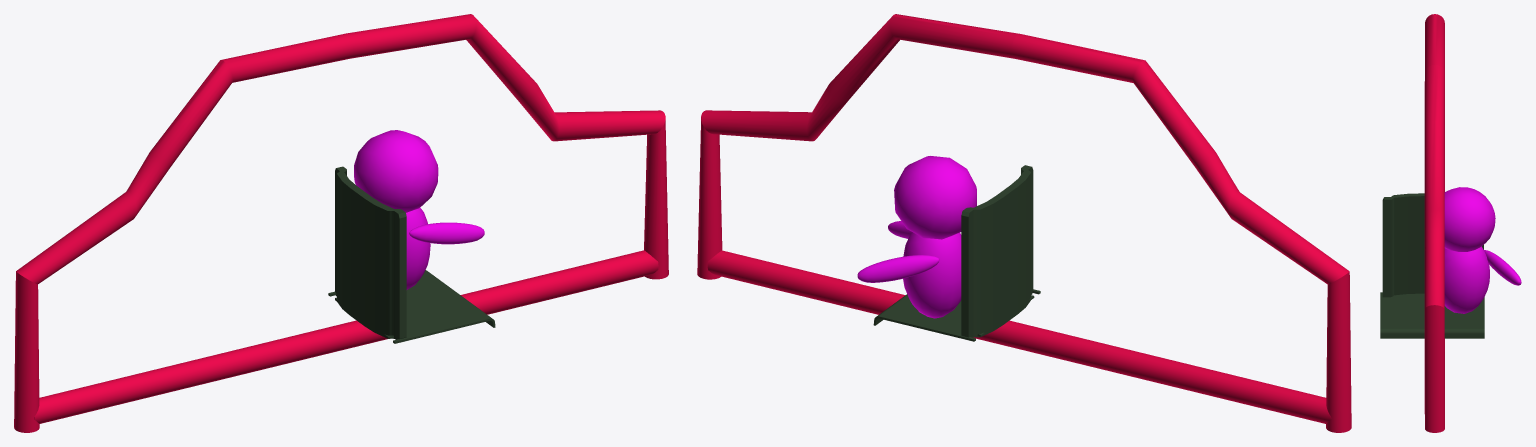
The model's file is nguoiqueen.fbx.
The picture shows the model from 3 angles, left to right: view 1: azimuth 30°, elevation 25°; view 2: azimuth 150°, elevation 25°; view 3: azimuth 270°, elevation 25°; orthographic projection. The views are drawn at different scales.
Visible parts, largest first — view 1: pCylinder54, Chair_Plastic, PolySphere3; view 2: pCylinder54, Chair_Plastic, PolySphere3; view 3: pCylinder54, Chair_Plastic, PolySphere3.
Part boxes in pixels (x1,y1,x2,y2): pCylinder54: [14, 14, 668, 432]; Chair_Plastic: [328, 166, 495, 343]; PolySphere3: [354, 130, 484, 289]; pCylinder54: [697, 14, 1351, 432]; Chair_Plastic: [873, 165, 1040, 341]; PolySphere3: [857, 156, 976, 318]; pCylinder54: [1424, 14, 1444, 432]; Chair_Plastic: [1380, 193, 1484, 338]; PolySphere3: [1444, 187, 1521, 313].
Size of the model in its own units: 17.32 by 8.1 by 4.15.
